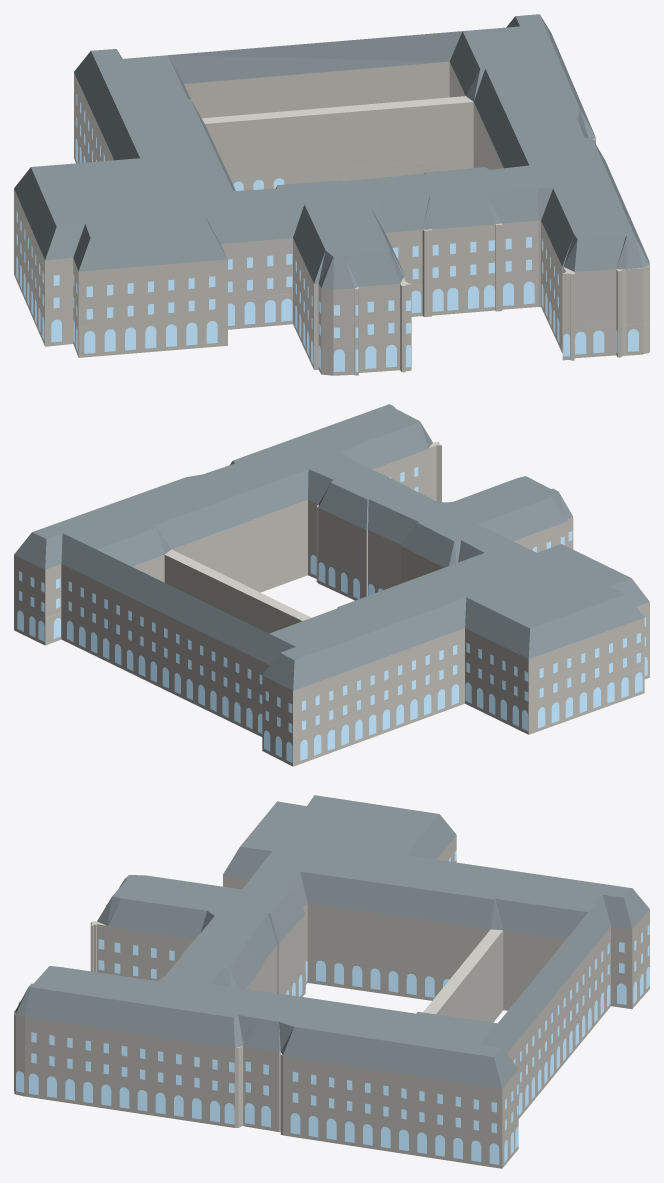
The picture shows the model from 3 angles, top to bottom: view 1: azimuth 30°, elevation 25°; view 2: azimuth 150°, elevation 25°; view 3: azimuth 270°, elevation 25°; orthographic projection. The views are drawn at different scales.
Visible parts, largest first — view 1: roof, stone, window, trim; view 2: roof, stone, window; view 3: roof, stone, window.
Part boxes in pixels (x1,y1,x2,y2): roof: (14, 14, 649, 289); stone: (14, 61, 649, 375); window: (16, 94, 638, 371); trim: (14, 128, 648, 345); roof: (14, 404, 649, 690); stone: (14, 441, 649, 766); window: (17, 467, 647, 762); roof: (15, 795, 649, 1088); stone: (14, 835, 649, 1168); window: (16, 850, 649, 1164).
Size of the model in its own units: 171 by 30 by 166.
